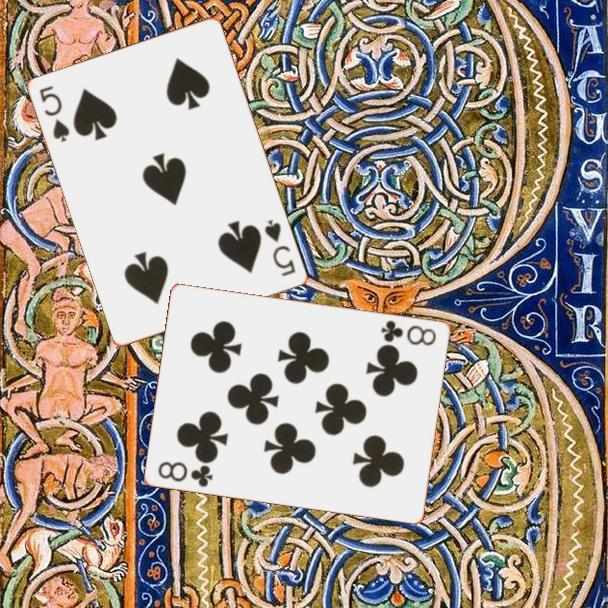c08: (378, 316, 439, 348), (155, 458, 216, 490)
s05: (261, 216, 299, 279), (36, 82, 73, 145)
